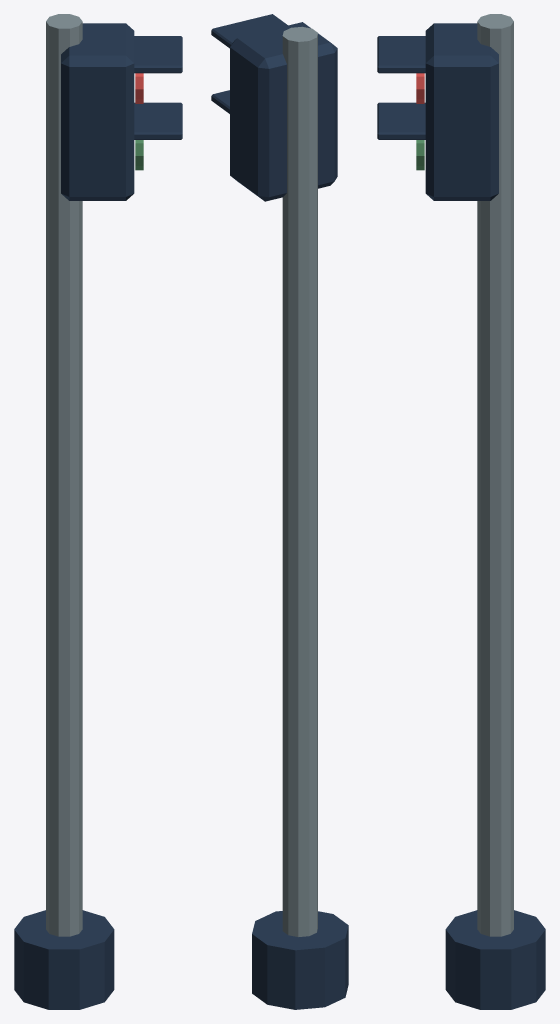
The model's file is TrafficLight_Pedestrian.fbx.
3 views of the same model, side by side, from view 1: azimuth 90°, elevation 25°; view 2: azimuth 210°, elevation 25°; view 3: azimuth 270°, elevation 25° (orthographic).
Parts seen in each view (by area): view 1: Pole.001, Housing.002, Base.006, SunShield.003, SunShield.004; view 2: Pole.001, Housing.002, Base.006, SunShield.003; view 3: Pole.001, Housing.002, Base.006, SunShield.003, SunShield.004.
Boxes of the visible parts, x1,y1,x2,y2 form: Pole.001: (46,14,82,936); Housing.002: (61,23,134,200); Base.006: (14,910,114,1009); SunShield.003: (134,36,182,73); SunShield.004: (134,102,182,139); Pole.001: (282,26,317,936); Housing.002: (230,22,337,201); Base.006: (252,911,348,1009); SunShield.003: (211,14,287,48); Pole.001: (477,14,513,936); Housing.002: (425,23,498,200); Base.006: (445,910,545,1009); SunShield.003: (377,36,425,73); SunShield.004: (377,102,425,139).
Size of the model in its own units: 0.2853 by 3.2 by 0.505.
